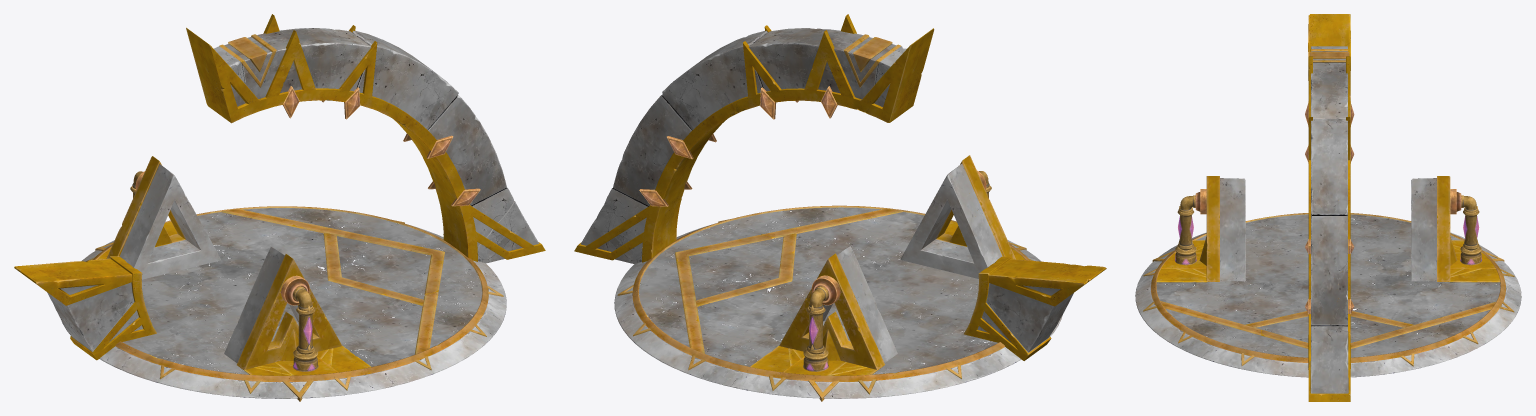
3 views of the same model, side by side, from view 1: azimuth 30°, elevation 25°; view 2: azimuth 150°, elevation 25°; view 3: azimuth 270°, elevation 25° (orthographic). The views are drawn at different scales.
Parts seen in each view (by area): view 1: SM_Anti_Dragon_Device_03_LOD0; view 2: SM_Anti_Dragon_Device_03_LOD0; view 3: SM_Anti_Dragon_Device_03_LOD0.
Boxes of the visible parts, left/top/right/bottom form: SM_Anti_Dragon_Device_03_LOD0: left=14, top=14, right=545, bottom=401; SM_Anti_Dragon_Device_03_LOD0: left=574, top=14, right=1106, bottom=401; SM_Anti_Dragon_Device_03_LOD0: left=1135, top=14, right=1521, bottom=401.
Bounding box in the file's own units: 8.2 × 4.47 × 6.28.
4 materials, 4 textured.
